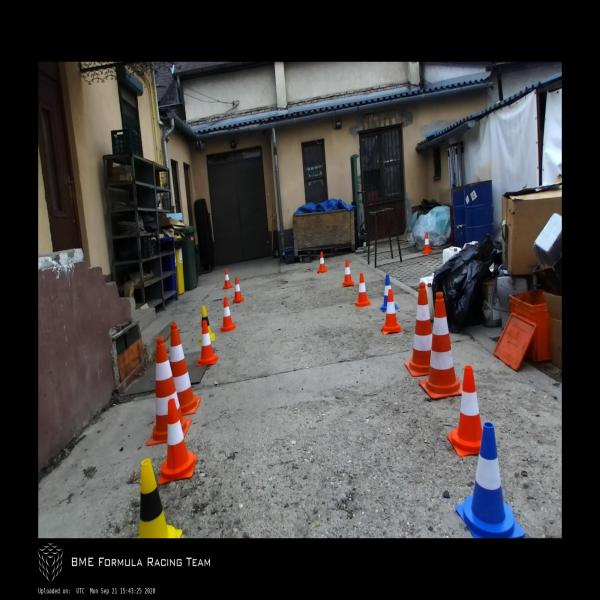blue_cone: (457, 422, 527, 538), (379, 276, 398, 312)
large_orange_cone: (146, 339, 192, 446), (419, 293, 463, 400), (170, 324, 200, 415), (404, 283, 433, 377)
orange_cone: (446, 366, 483, 456), (160, 400, 198, 482), (380, 290, 402, 334), (198, 321, 218, 366), (354, 273, 371, 308), (220, 296, 236, 332), (342, 260, 354, 288), (233, 278, 244, 303), (422, 232, 432, 254), (317, 251, 327, 272), (223, 269, 232, 290)
yellow_cone: (138, 458, 182, 538), (198, 305, 215, 344)
